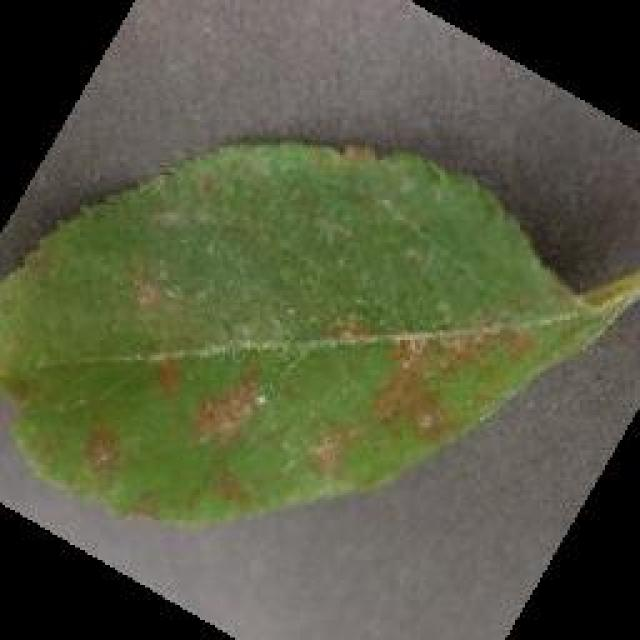apple rust disease: (0, 132, 638, 528)
